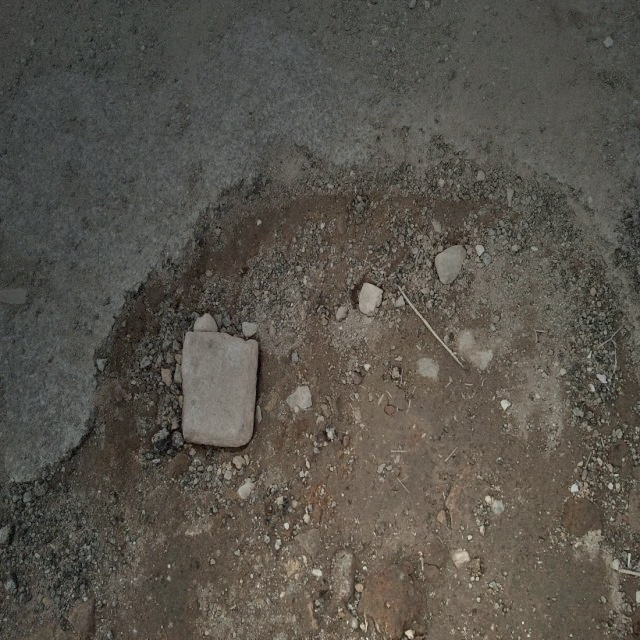pothole: (89, 140, 627, 471)
